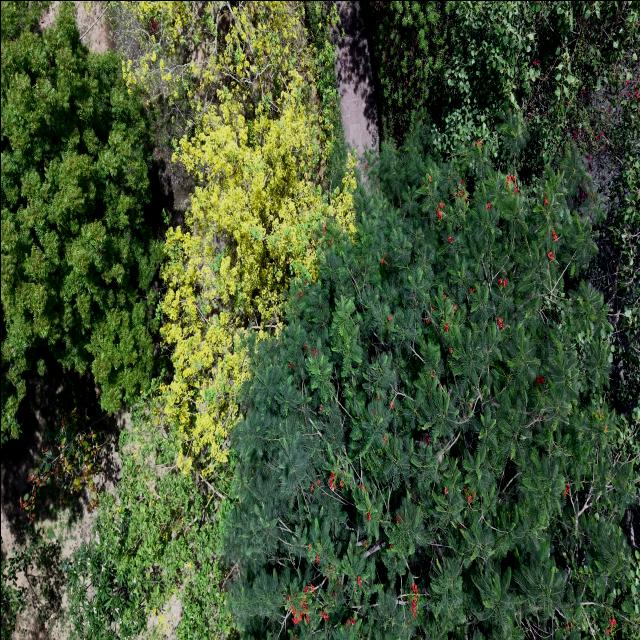DRY_AREA: (1, 370, 96, 639), (1, 374, 97, 639), (1, 374, 96, 639), (1, 377, 95, 639), (1, 379, 95, 639), (1, 377, 94, 639), (331, 1, 380, 176), (332, 1, 380, 168), (333, 1, 379, 160), (152, 131, 194, 213), (75, 1, 113, 53), (75, 1, 113, 52)
PATHWAYS: (332, 1, 379, 178)
VEGETATION_TREE: (1, 1, 639, 639), (228, 2, 639, 639), (227, 124, 636, 639), (71, 3, 355, 638), (382, 2, 639, 474), (367, 2, 639, 421), (119, 1, 355, 470), (1, 1, 163, 637), (161, 1, 355, 468), (4, 4, 163, 517), (1, 3, 162, 438), (367, 1, 639, 173), (66, 389, 231, 639), (17, 361, 116, 524), (367, 1, 454, 144), (20, 407, 105, 519), (1, 524, 67, 639), (609, 543, 639, 639), (1, 555, 25, 639)
